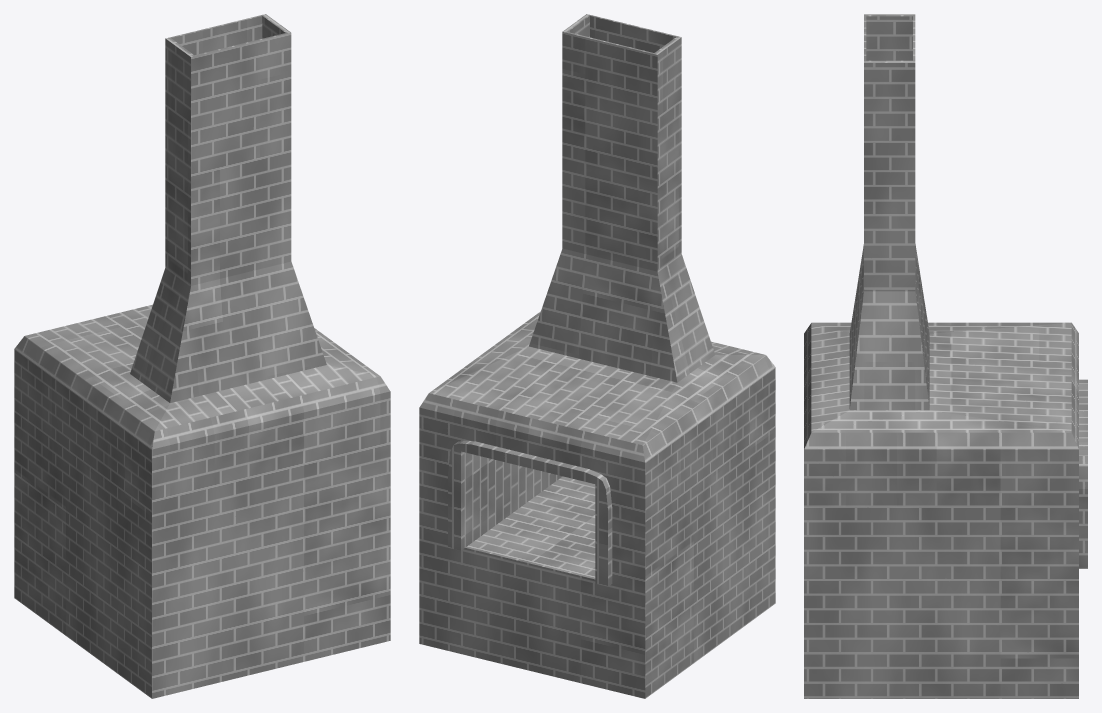
Rendered from Furnace.fbx.
The picture shows the model from 3 angles, left to right: view 1: azimuth 30°, elevation 25°; view 2: azimuth 150°, elevation 25°; view 3: azimuth 270°, elevation 25°; orthographic projection. The views are drawn at different scales.
Parts seen in each view (by area): view 1: Cube; view 2: Cube; view 3: Cube.
Part boxes in pixels (x1,y1,x2,y2): Cube: (14,14,390,698); Cube: (419,14,775,698); Cube: (804,14,1087,698).
Bounding box in the file's own units: 200 × 483 × 206.
